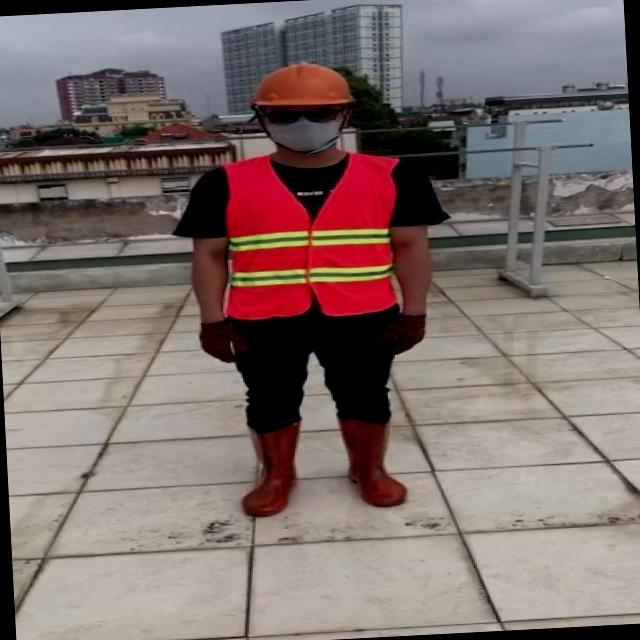boots: (234, 418, 305, 518), (334, 414, 408, 508)
gloves: (168, 300, 290, 379), (348, 288, 442, 360)
helmet: (245, 55, 361, 114)
vest: (220, 148, 407, 322)
